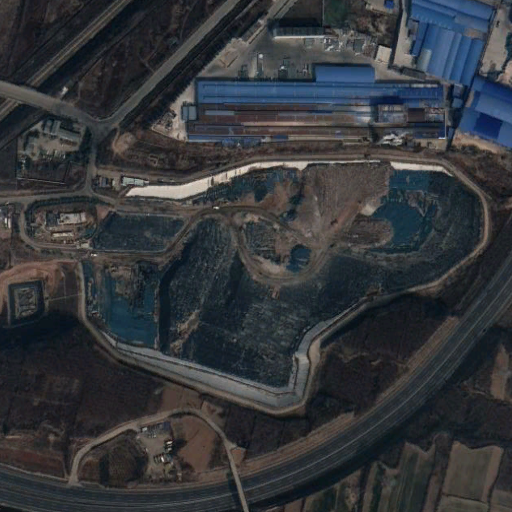lf: (84, 161, 490, 413)
